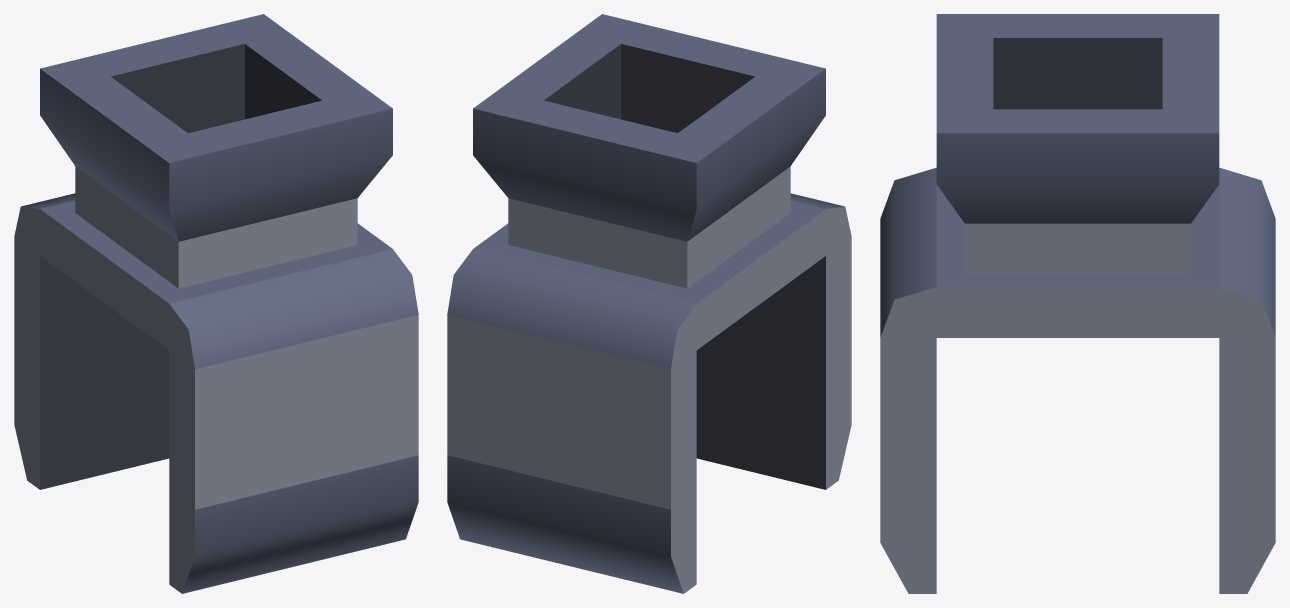
File: CoverHopper-transformed.glb
The picture shows the model from 3 angles, left to right: view 1: azimuth 30°, elevation 25°; view 2: azimuth 150°, elevation 25°; view 3: azimuth 270°, elevation 25°; orthographic projection. The views are drawn at different scales.
Visible parts, largest first — view 1: cover-hopper; view 2: cover-hopper; view 3: cover-hopper.
Part boxes in pixels (box(x1,y1,x2,y2)): cover-hopper: box(14, 14, 418, 593); cover-hopper: box(447, 14, 851, 593); cover-hopper: box(880, 14, 1275, 593).
Size of the model in its own units: 1 by 1.8 by 1.4.
